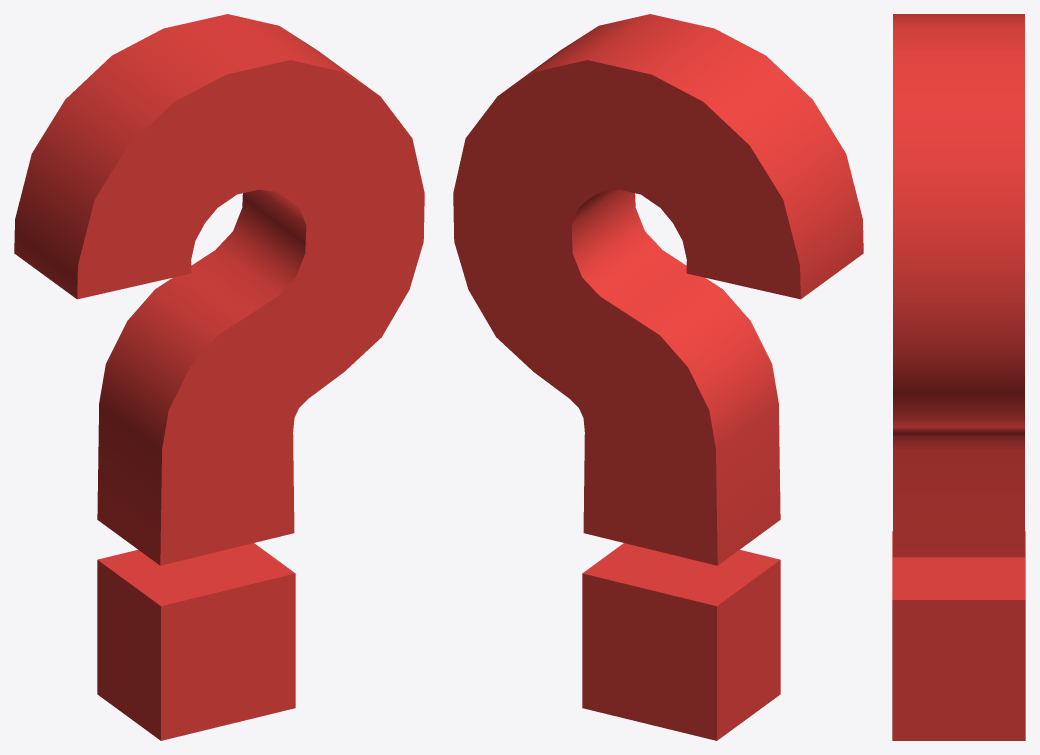
Rendered from red_question_mark.glb.
3 views of the same model, side by side, from view 1: azimuth 30°, elevation 25°; view 2: azimuth 150°, elevation 25°; view 3: azimuth 270°, elevation 25° (orthographic). The views are drawn at different scales.
Visible parts, largest first — view 1: Cube.6446; view 2: Cube.6446; view 3: Cube.6446.
Part boxes in pixels (<box>): Cube.6446: <box>14,14,424,740</box>; Cube.6446: <box>453,14,863,740</box>; Cube.6446: <box>892,14,1025,740</box>.
Size of the model in its own units: 1.19 by 2.12 by 0.3762.
1 material, 1 textured.
